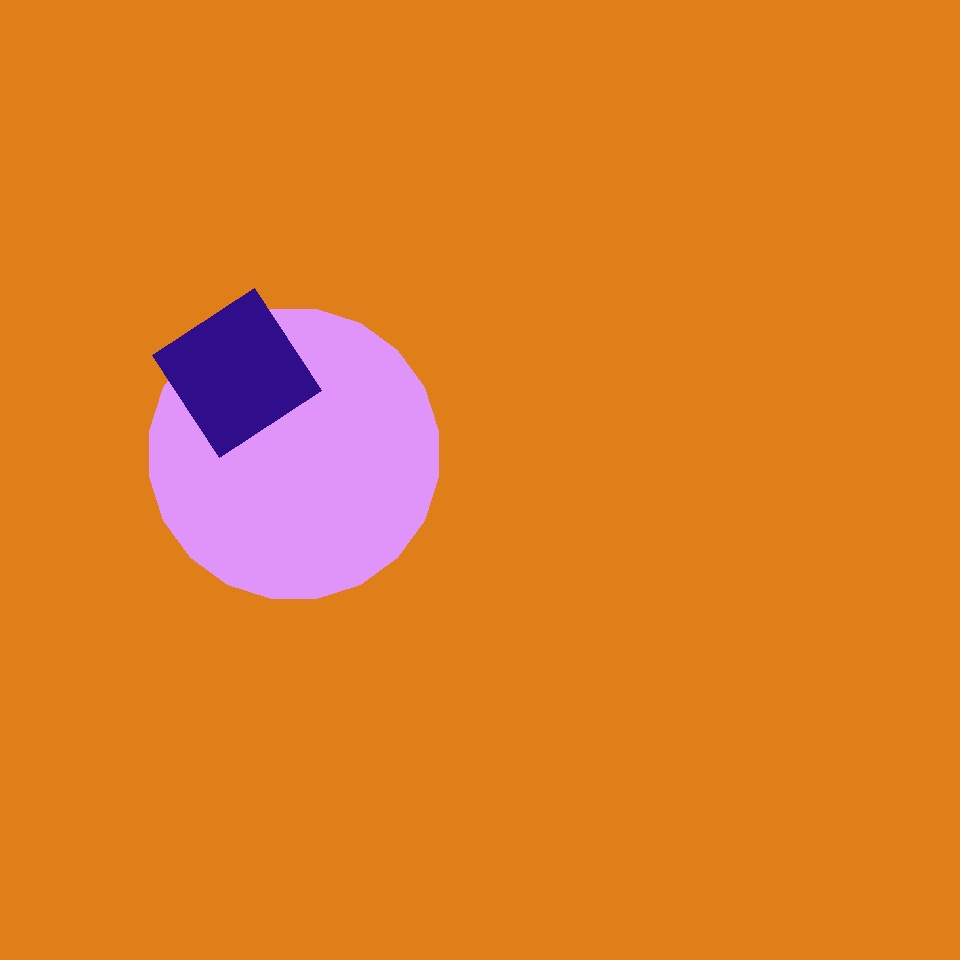square: (153, 288, 322, 458), (118, 237, 281, 400)
triangle: (529, 5, 892, 368), (329, 423, 669, 763), (150, 310, 438, 598), (702, 295, 923, 516), (611, 564, 764, 718)
